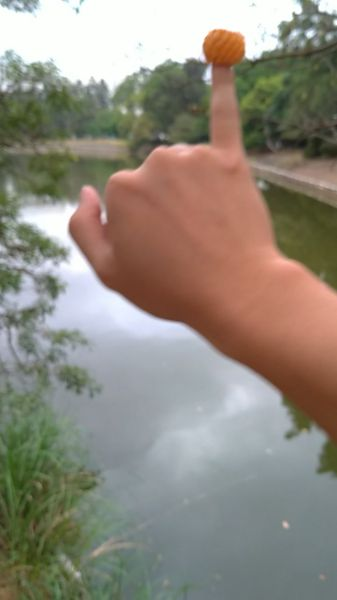eggs: (202, 27, 246, 65)
